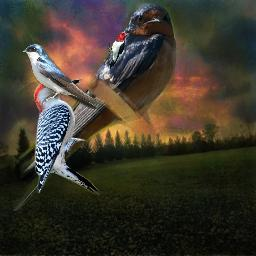Swallow: (13, 3, 177, 211), (22, 44, 101, 109)
Woodpecker: (28, 74, 105, 203), (106, 32, 130, 71)
